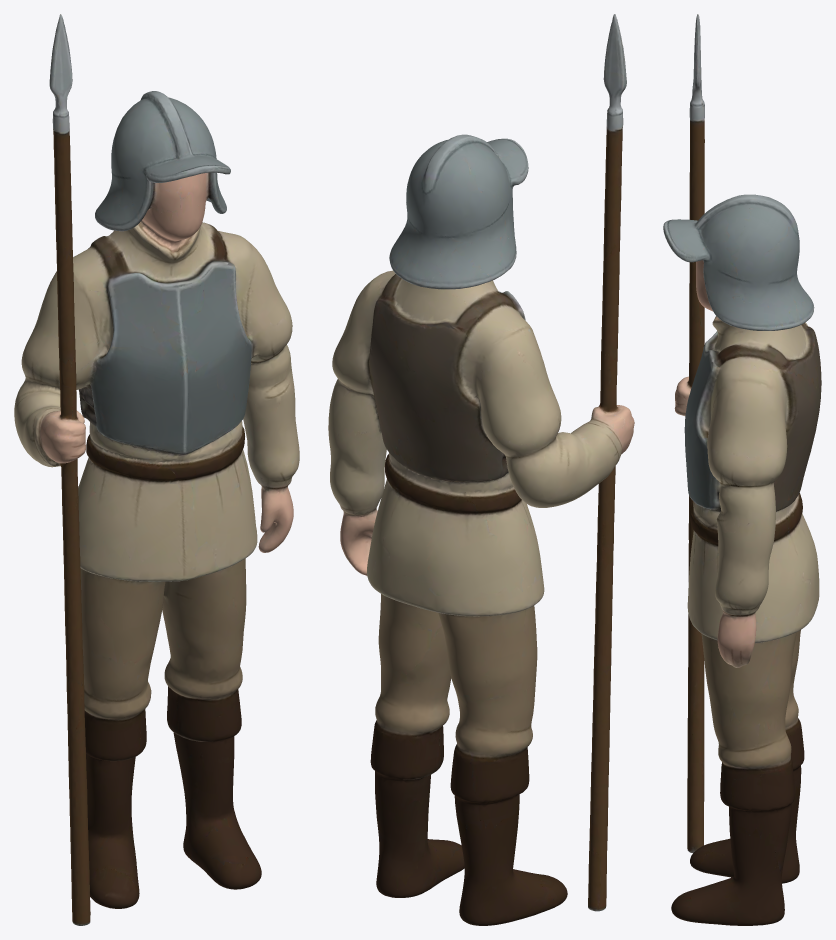
The model's file is pikeman.glb.
3 renders of one model, left to right at view 1: azimuth 30°, elevation 25°; view 2: azimuth 150°, elevation 25°; view 3: azimuth 270°, elevation 25°, orthographic. The views are drawn at different scales.
Size of the model in its own units: 0.5979 by 1.9 by 0.3286.
1 material, 1 textured.
